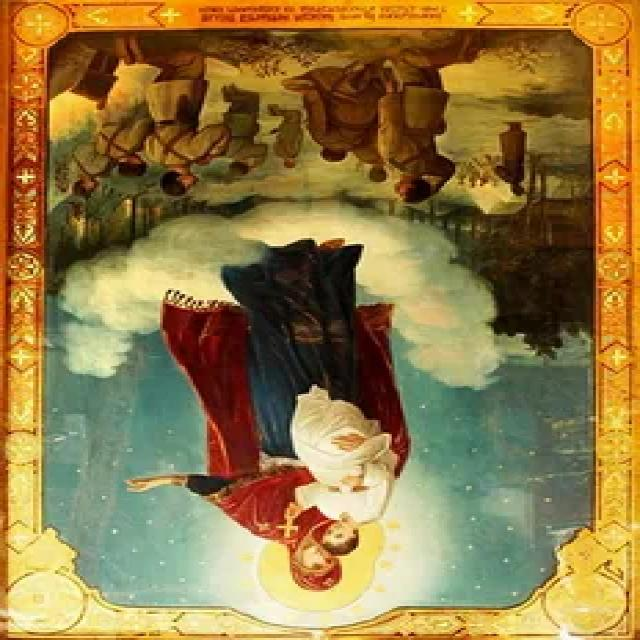mother of god: (148, 226, 435, 593)
